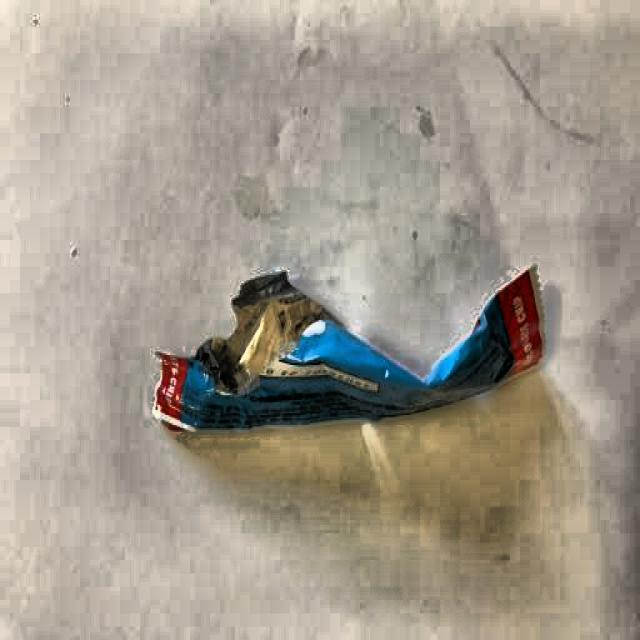trash: (158, 271, 549, 436)
